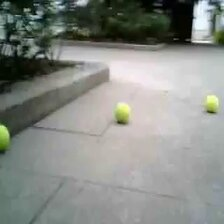tennis: (112, 102, 132, 124), (1, 121, 12, 153), (204, 95, 218, 111)
